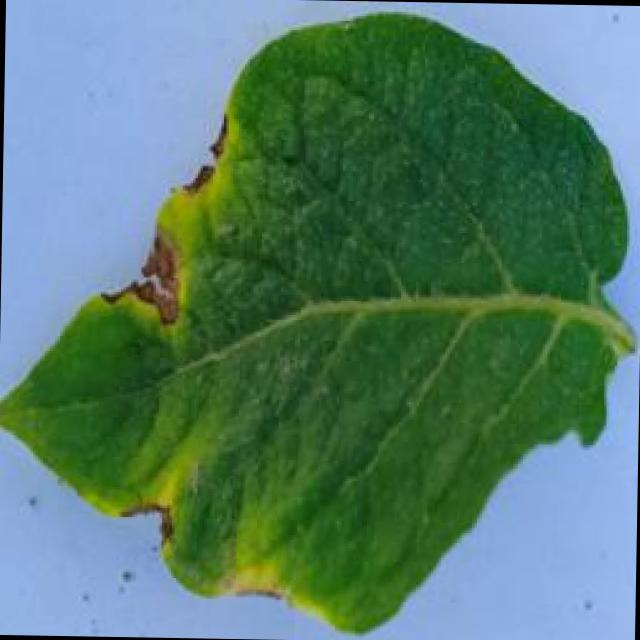Potato_Late_Blight: (6, 4, 640, 635)
